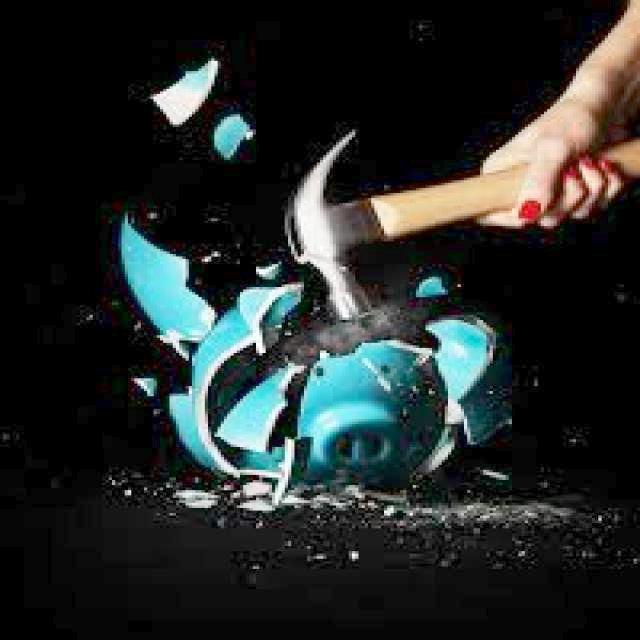hammer: (272, 122, 640, 330)
